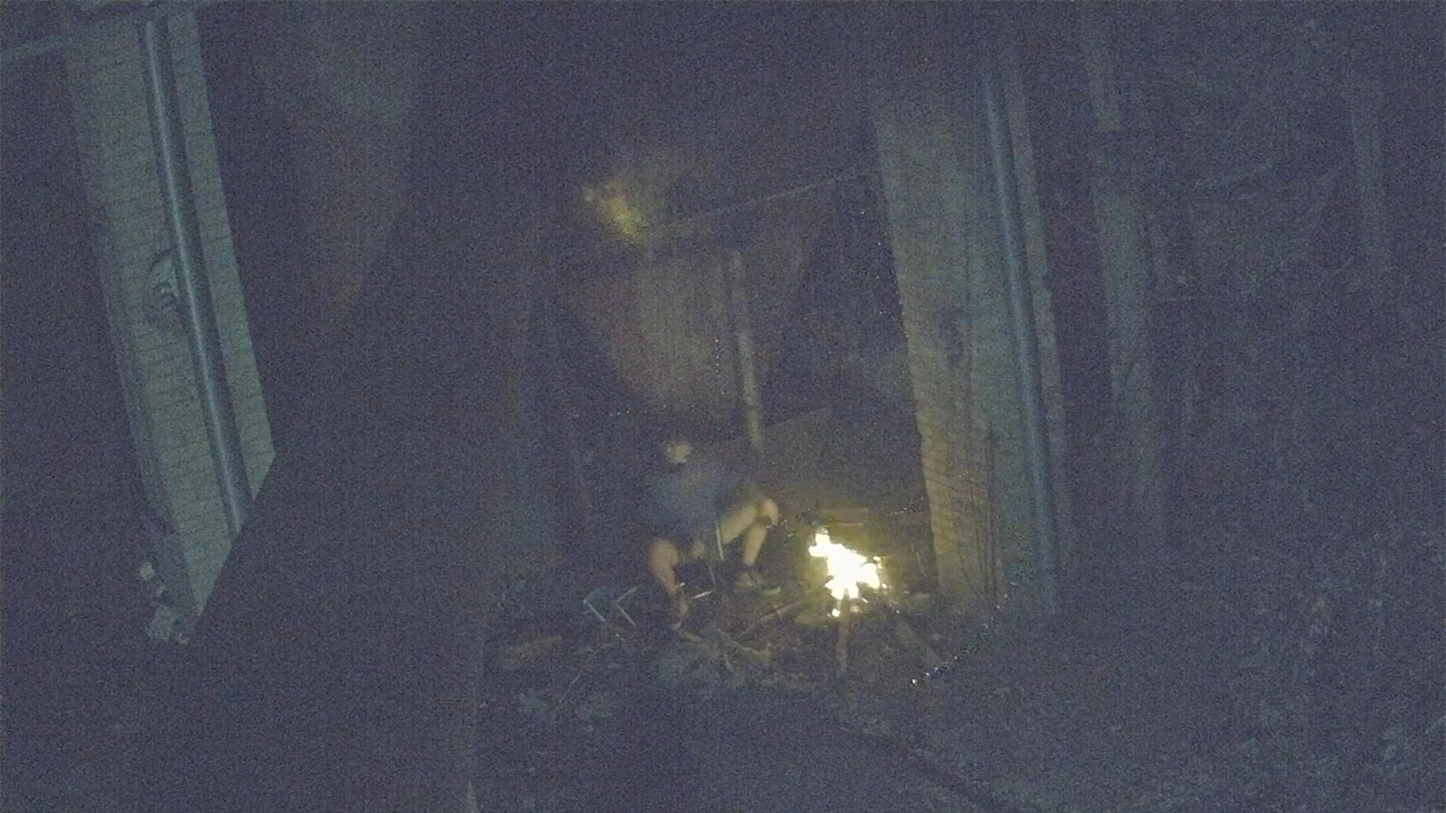fire: (809, 531, 882, 617)
